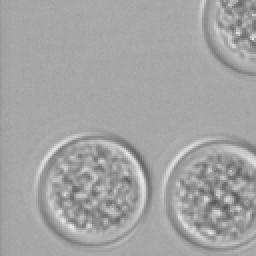picoshell: (34, 132, 148, 248), (162, 136, 254, 252), (200, 0, 254, 74)
